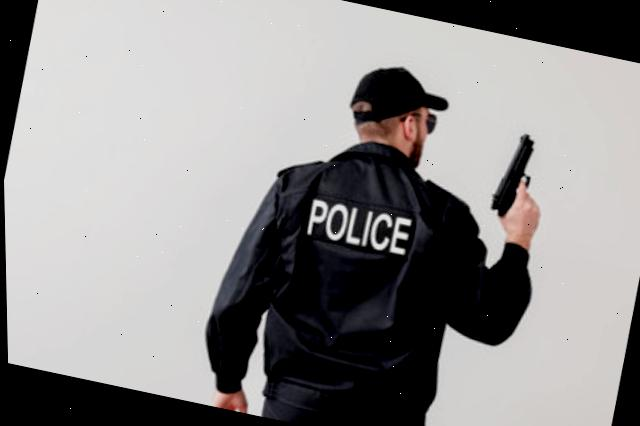pistol: (479, 122, 560, 238)
